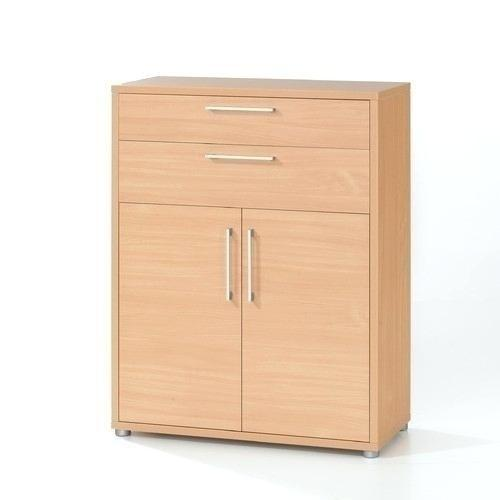cabinet_door: (243, 214, 372, 441), (119, 209, 243, 428), (119, 142, 368, 206), (127, 100, 374, 145)
handle: (203, 150, 283, 168), (204, 103, 281, 117), (223, 223, 235, 304), (245, 226, 256, 307)
